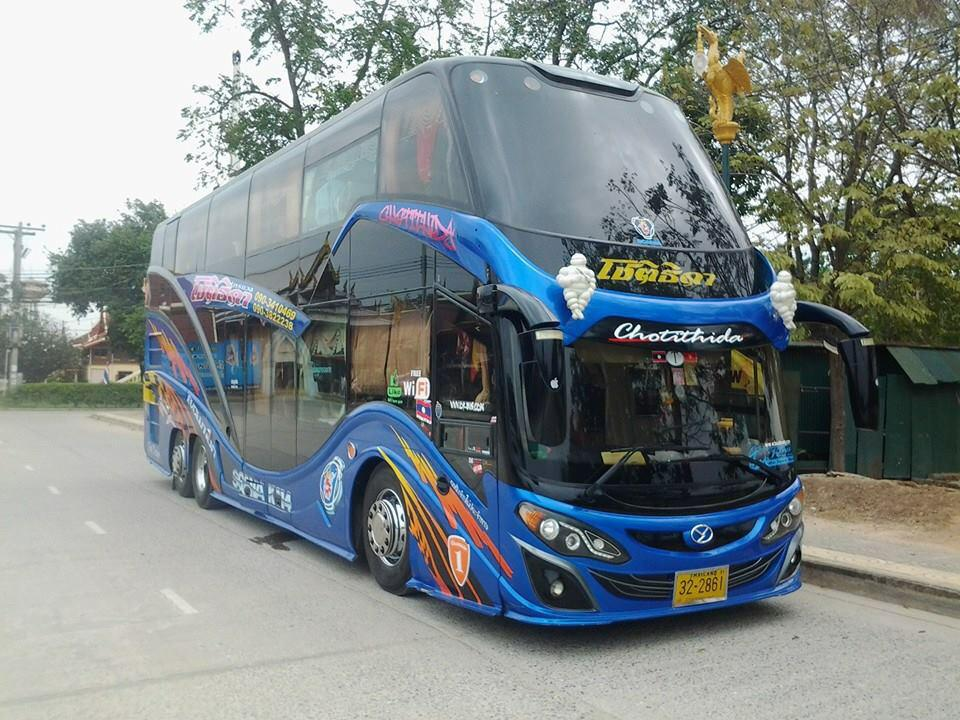bus: (142, 55, 807, 628)
